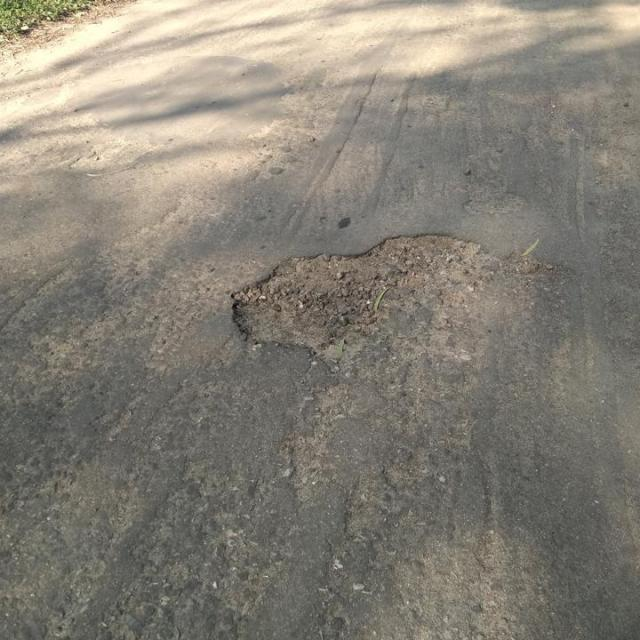pothole: (228, 229, 504, 371)
